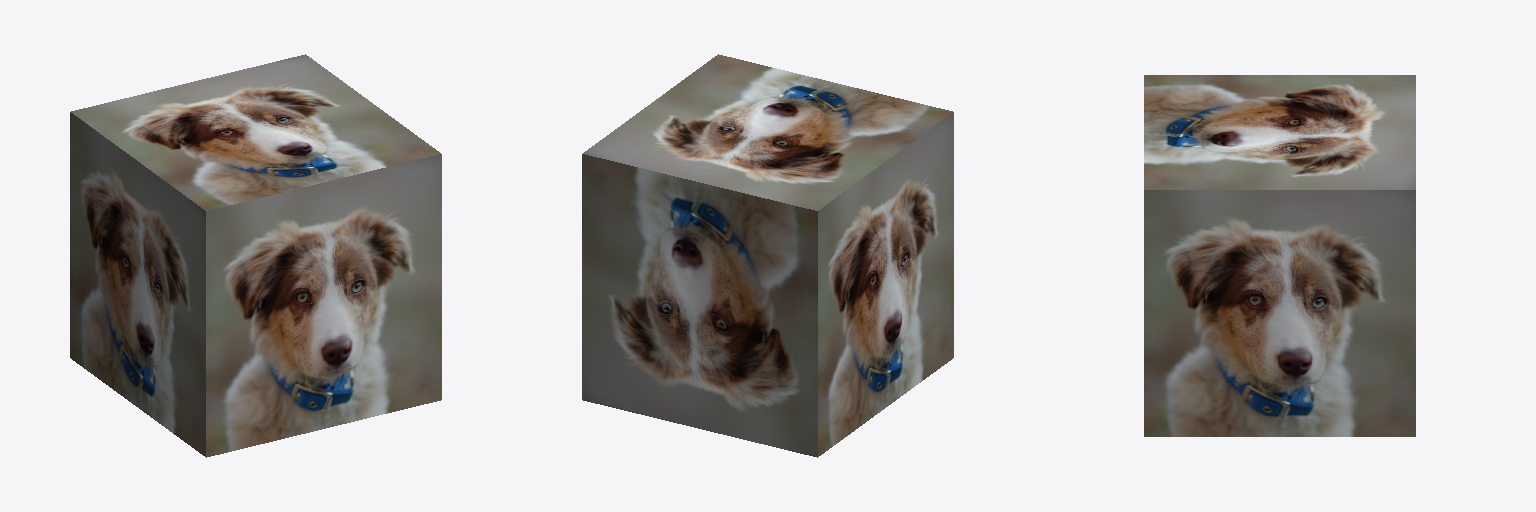
3 views of the same model, side by side, from view 1: azimuth 30°, elevation 25°; view 2: azimuth 150°, elevation 25°; view 3: azimuth 270°, elevation 25° (orthographic).
Parts seen in each view (by area): view 1: pCube1; view 2: pCube1; view 3: pCube1.
Part boxes in pixels (x1,y1,x2,y2): pCube1: (70, 54, 441, 457); pCube1: (582, 54, 953, 457); pCube1: (1144, 75, 1415, 436).
Size of the model in its own units: 1 by 1 by 1.
1 materials, 1 textured.